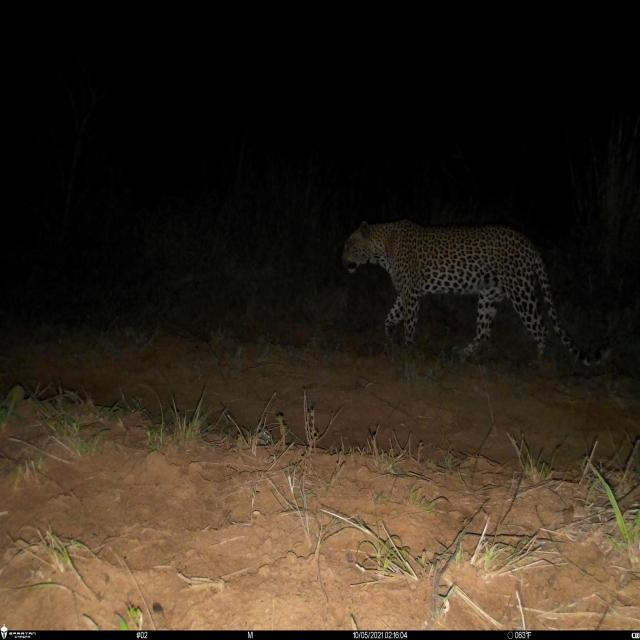Leopard: (338, 211, 617, 376)
